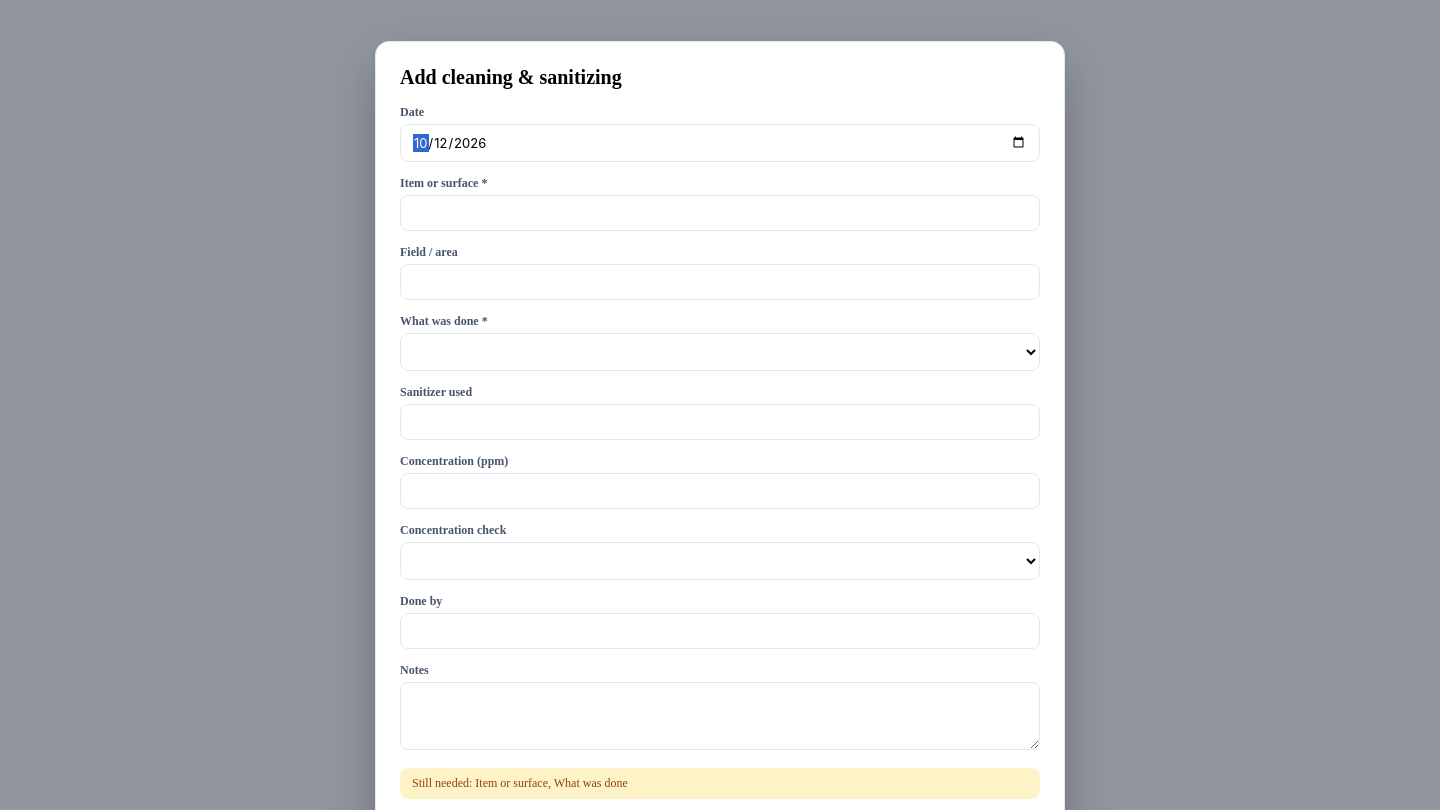
Test: RecordForm: live validation › makes the sanitizer and its concentration required only when something was sanitized
The width and height of the screenshot is (1440, 810).
Type "Harvest bins" into the field labelled "Item or surface *" at (720, 212), box [400,194,1040,230]
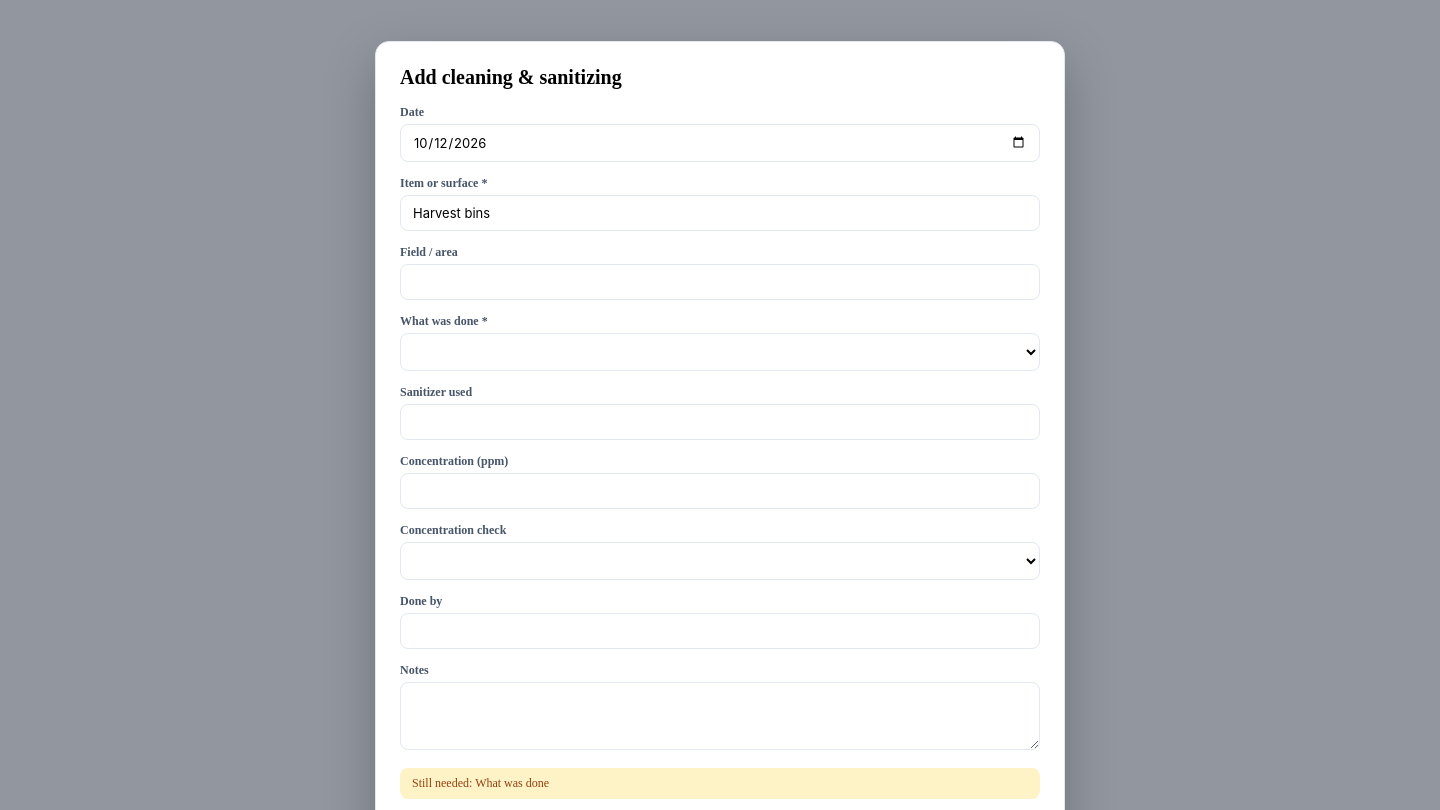
Select "Cleaned only" in the dropdown labelled "What was done *" at (720, 352), box [400,332,1040,370]
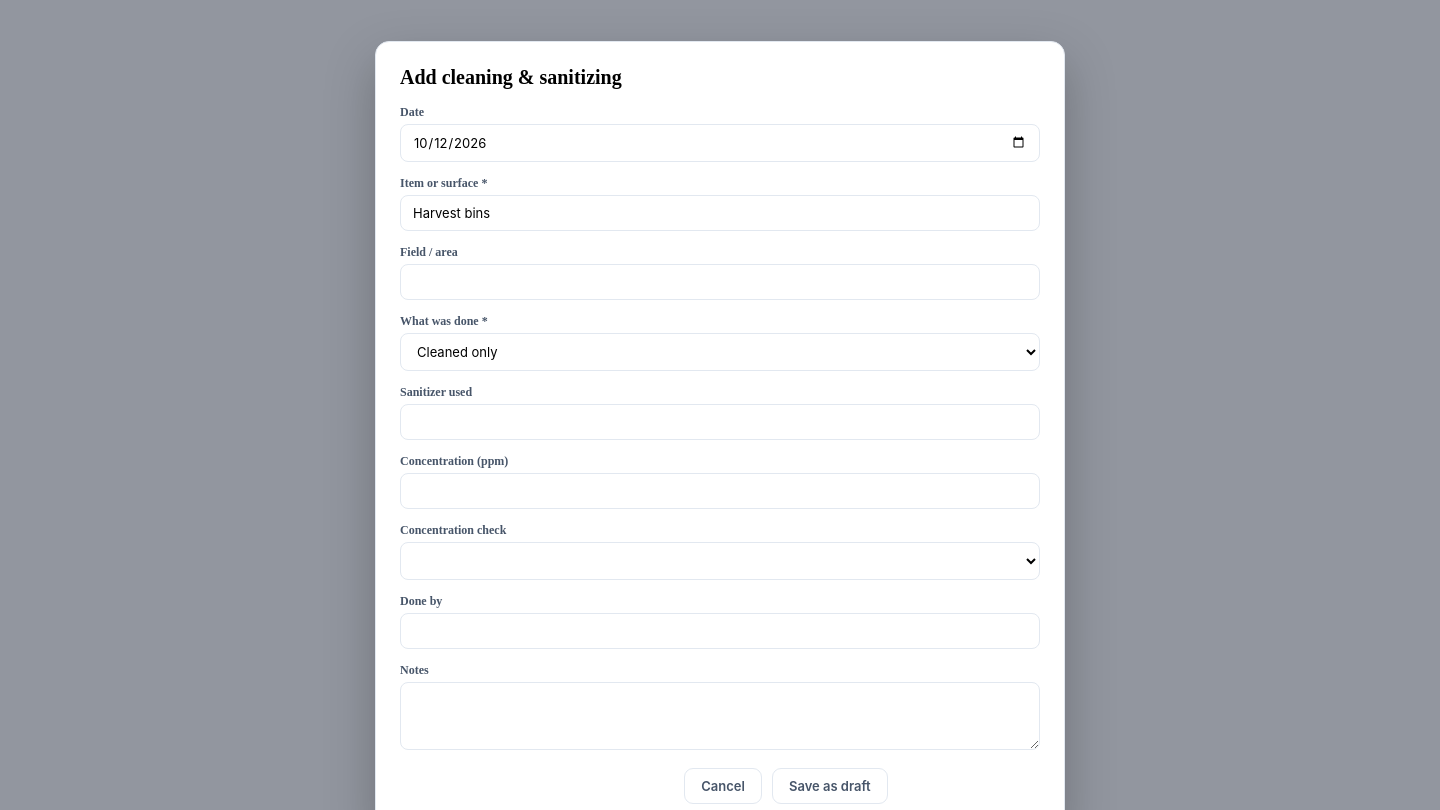
Result: the text "Still needed:" is gone
Select "Cleaned, then sanitized" in the dropdown labelled "What was done *" at (720, 352), box [400,332,1040,370]
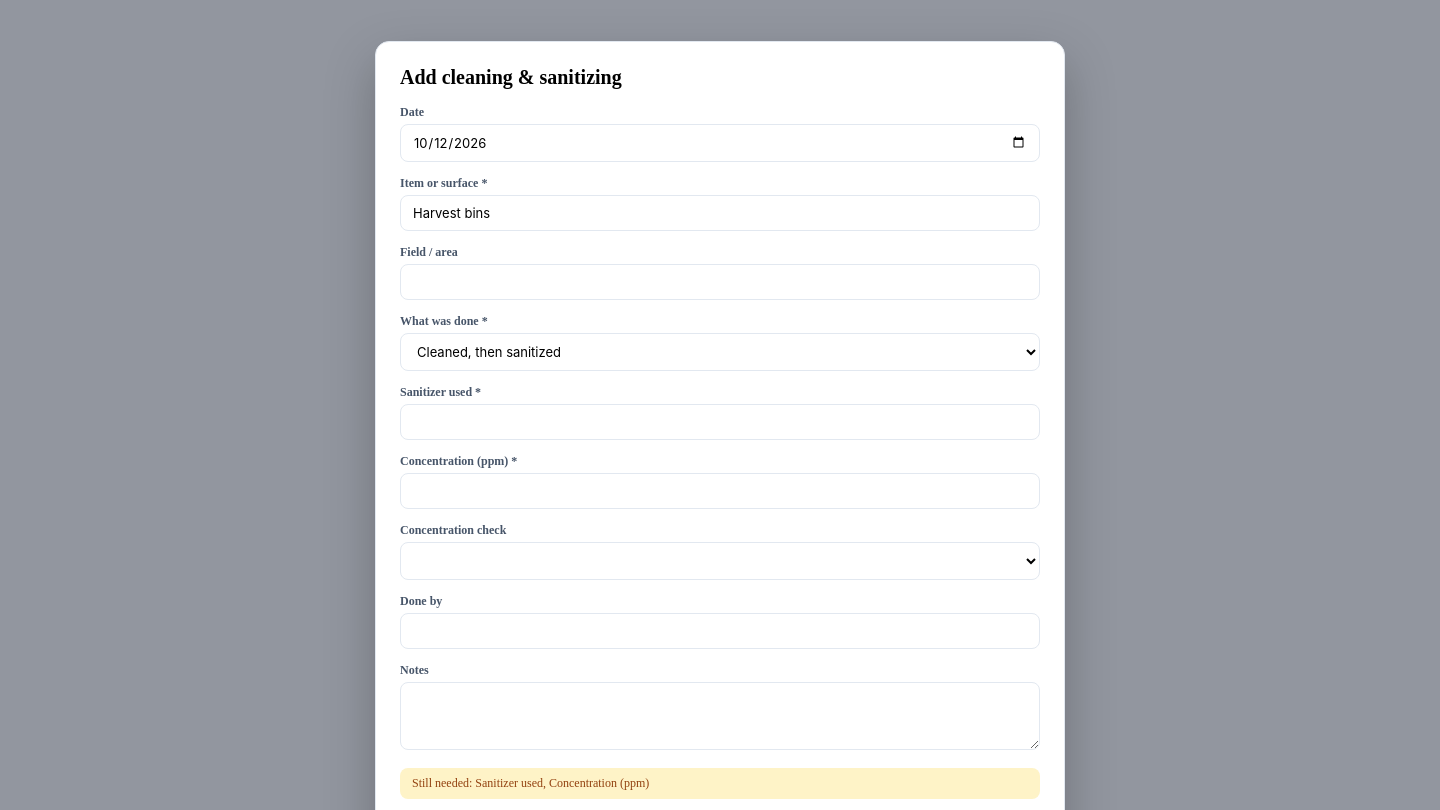
Result: the text "Still needed: Sanitizer used, Concentration (ppm)" is shown at [400,768,1040,798]
